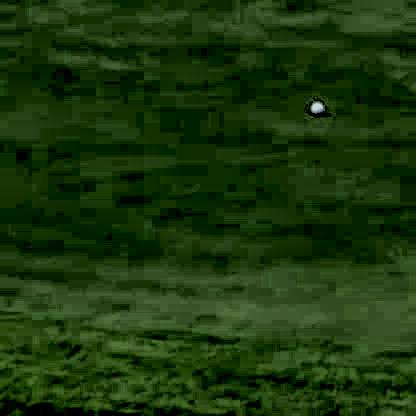golfball: (306, 97, 322, 115)
